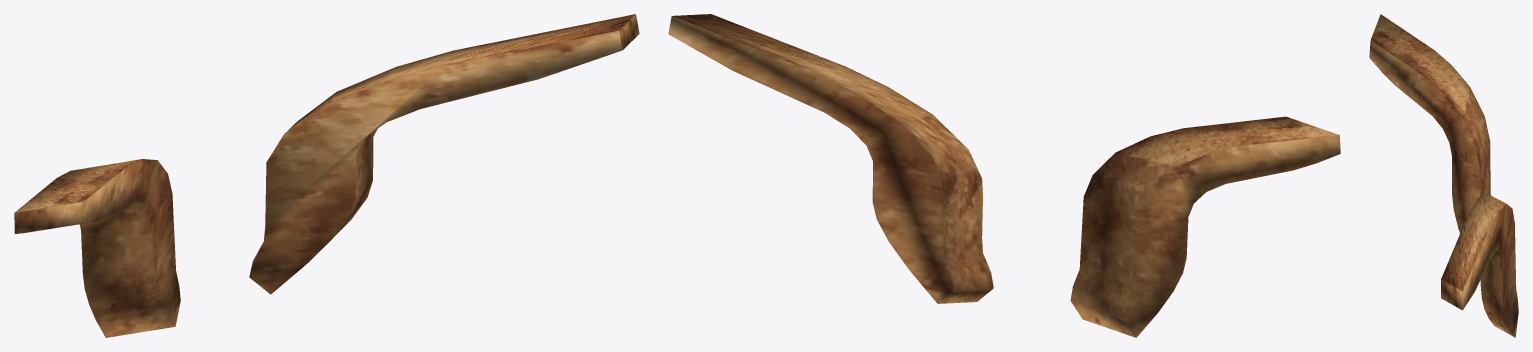
File: house_pillar_a.glb
3 renders of one model, left to right at view 1: azimuth 30°, elevation 25°; view 2: azimuth 150°, elevation 25°; view 3: azimuth 270°, elevation 25°, orthographic. The views are drawn at different scales.
Visible parts, largest first — view 1: dark-wall-wood.png__; view 2: dark-wall-wood.png__; view 3: dark-wall-wood.png__.
Part boxes in pixels (x1,y1,x2,y2): dark-wall-wood.png__: (14, 14, 639, 337); dark-wall-wood.png__: (668, 14, 1340, 337); dark-wall-wood.png__: (1369, 14, 1518, 337).
Size of the model in its own units: 19.16 by 5.69 by 4.34.
Materials: 1 (1 with a texture image).
